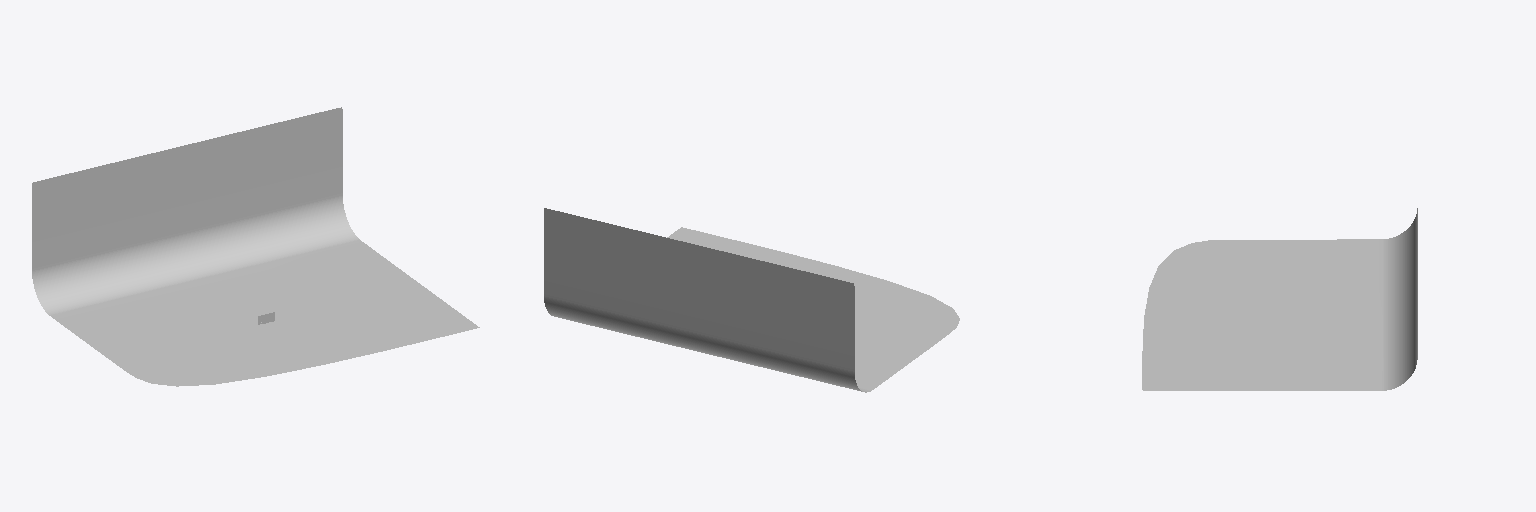
3 views of the same model, side by side, from view 1: azimuth 30°, elevation 25°; view 2: azimuth 150°, elevation 25°; view 3: azimuth 270°, elevation 25° (orthographic).
Visible parts, largest first — view 1: Backdrop_Full; view 2: Backdrop_Full; view 3: Backdrop_Full.
Part boxes in pixels (bbox=[...]): Backdrop_Full: bbox=[32, 107, 479, 386]; Backdrop_Full: bbox=[544, 208, 959, 392]; Backdrop_Full: bbox=[1142, 208, 1417, 390].
Size of the model in its own units: 9.61 by 3.6 by 7.38.